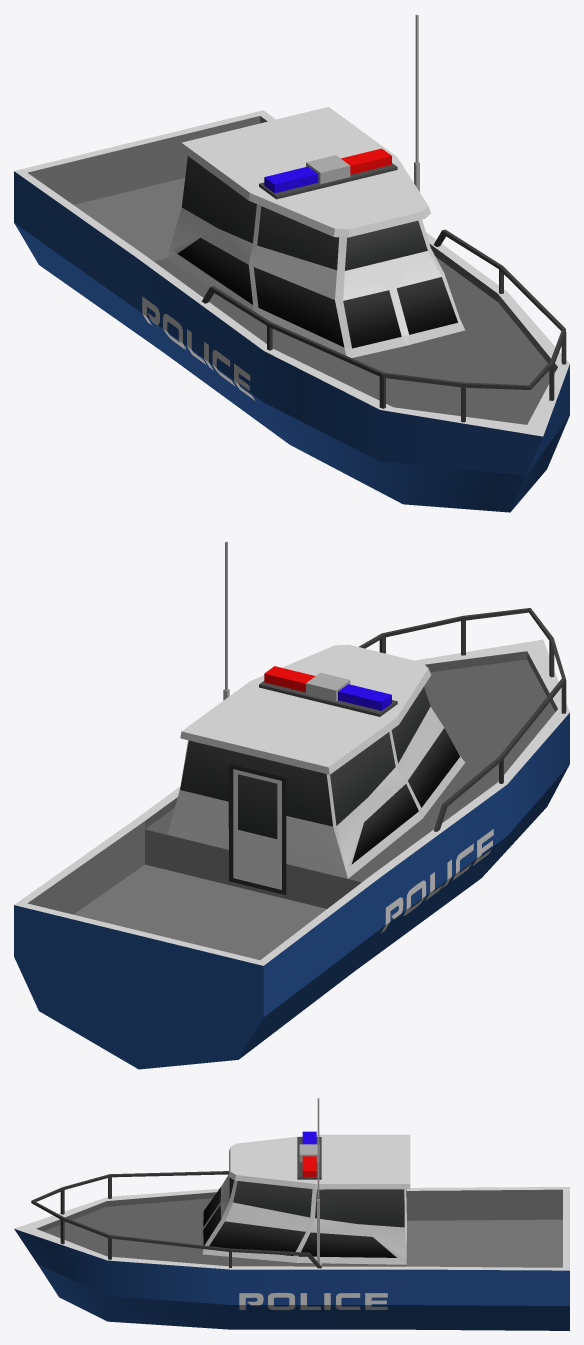
File: PoliceBoat.fbx
3 renders of one model, top to bottom at view 1: azimuth 30°, elevation 25°; view 2: azimuth 150°, elevation 25°; view 3: azimuth 270°, elevation 25°, orthographic. The views are drawn at different scales.
Visible parts, largest first — view 1: PoliceBoat; view 2: PoliceBoat; view 3: PoliceBoat.
Boxes of the visible parts, x1,y1,x2,y2 form: PoliceBoat: (14, 14, 569, 512); PoliceBoat: (14, 541, 569, 1069); PoliceBoat: (14, 1098, 569, 1330).
Size of the model in its own units: 231 by 328 by 649.
